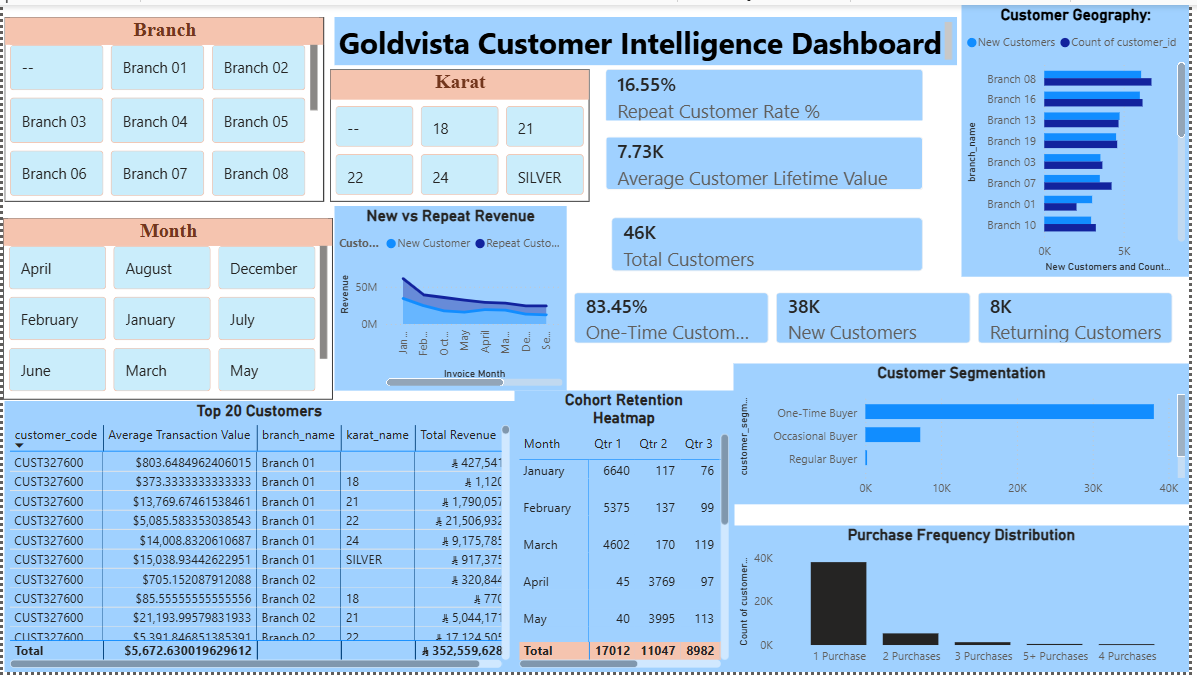

Layout of this report page (visuals, bound fields, positions):
{"tool":"powerbi","page":{"name":"Customer Analytics","canvas":[1280,720],"ordinal":3},"visuals":[{"type":"cardVisual","fields":{"Data":["Date.Total Customers"]},"box":[639.6,212.1,370.8,92.3],"z":0},{"type":"cardVisual","fields":{"Data":["Date.One-Time Customer Rate %","Customer Purchase Distribution.New Customers","Customer Purchase Distribution.Returning Customers"]},"box":[599.1,293.1,681.7,89.1],"z":1000},{"type":"cardVisual","fields":{"Data":["Date.Repeat Customer Rate %"]},"box":[633.1,51.8,377.3,93.9],"z":2000},{"type":"barChart","title":"Customer Segmentation","fields":{"Category":["public customer_segments.customer_segment"],"Y":["CountNonNull(public customer_segments.customer_id)"]},"box":[788.6,387,492.2,152.2],"z":3000},{"type":"clusteredColumnChart","title":"Purchase Frequency Distribution","fields":{"Category":["Customer Purchase Distribution.Purchase Category"],"Y":["CountNonNull(Customer Purchase Distribution.customer_id)"]},"box":[788.6,561.9,492.2,158.7],"z":4000},{"type":"textbox","box":[357.8,13,672,51.8],"z":5000},{"type":"advancedSlicerVisual","title":"Branch","fields":{"Values":["public dim_branch.branch_name"]},"box":[1.6,13,344.9,199.2],"z":6000},{"type":"advancedSlicerVisual","title":"Month ","fields":{"Values":["Date.Month Name"]},"box":[0,229.9,356.2,195.9],"z":7000},{"type":"cardVisual","fields":{"Data":["Date.Customer Lifetime Value"]},"box":[633.1,124.7,377.3,92.3],"z":8000},{"type":"advancedSlicerVisual","title":"Karat","fields":{"Values":["public dim_karat.karat_name"]},"box":[353,69.6,280.1,142.5],"z":9000},{"type":"stackedAreaChart","title":"New vs Repeat Revenue","fields":{"Series":["public customer_segments.Customer Type"],"Y":["Customer Purchase Distribution.Revenue"],"Category":["public fact_sales.Invoice Month"]},"box":[357.8,217,251,199.2],"z":10000},{"type":"pivotTable","title":"Cohort Retention Heatmap","fields":{"Values":["Customer Purchase Distribution.Retained Customers"],"Rows":["Date.Date.Variation.Date Hierarchy.Month"],"Columns":["Customer First Purchase.First Purchase Date.Variation.Date Hierarchy.Quarter"]},"box":[552.2,416.1,236.4,304.4],"z":11000},{"type":"tableEx","title":"Top 20 Customers","fields":{"Values":["public dim_customer.customer_code","Date.Average Transaction Value","public dim_branch.branch_name","public dim_karat.karat_name","Date.Total Revenue"]},"box":[1.6,427.5,550.5,293.1],"z":12000},{"type":"clusteredBarChart","title":"Customer Geography:","fields":{"Category":["public dim_branch.branch_name"],"Y":["Customer Purchase Distribution.New Customers","Count(Customer First Purchase.customer_id)"]},"box":[1034.7,0,246.1,293.1],"z":13000}]}

Visuals, with their boxes in screenshot pixels (x1, y1, x2, y2), scaled from the page's 1280x720 canvas onto the 1197x679 screenshot:
cardVisual - Date.Total Customers: 598 200 945 287
cardVisual - Date.One-Time Customer Rate % x Customer Purchase Distribution.New Customers: 560 276 1196 360
cardVisual - Date.Repeat Customer Rate %: 592 49 945 137
"Customer Segmentation" barChart: 737 365 1196 508
"Purchase Frequency Distribution" clusteredColumnChart: 737 530 1196 678
textbox: 335 12 963 61
"Branch" advancedSlicerVisual: 1 12 324 200
"Month " advancedSlicerVisual: 0 217 333 402
cardVisual - Date.Customer Lifetime Value: 592 118 945 205
"Karat" advancedSlicerVisual: 330 66 592 200
"New vs Repeat Revenue" stackedAreaChart: 335 205 569 392
"Cohort Retention Heatmap" pivotTable: 516 392 737 678
"Top 20 Customers" tableEx: 1 403 516 678
"Customer Geography:" clusteredBarChart: 968 0 1196 276
